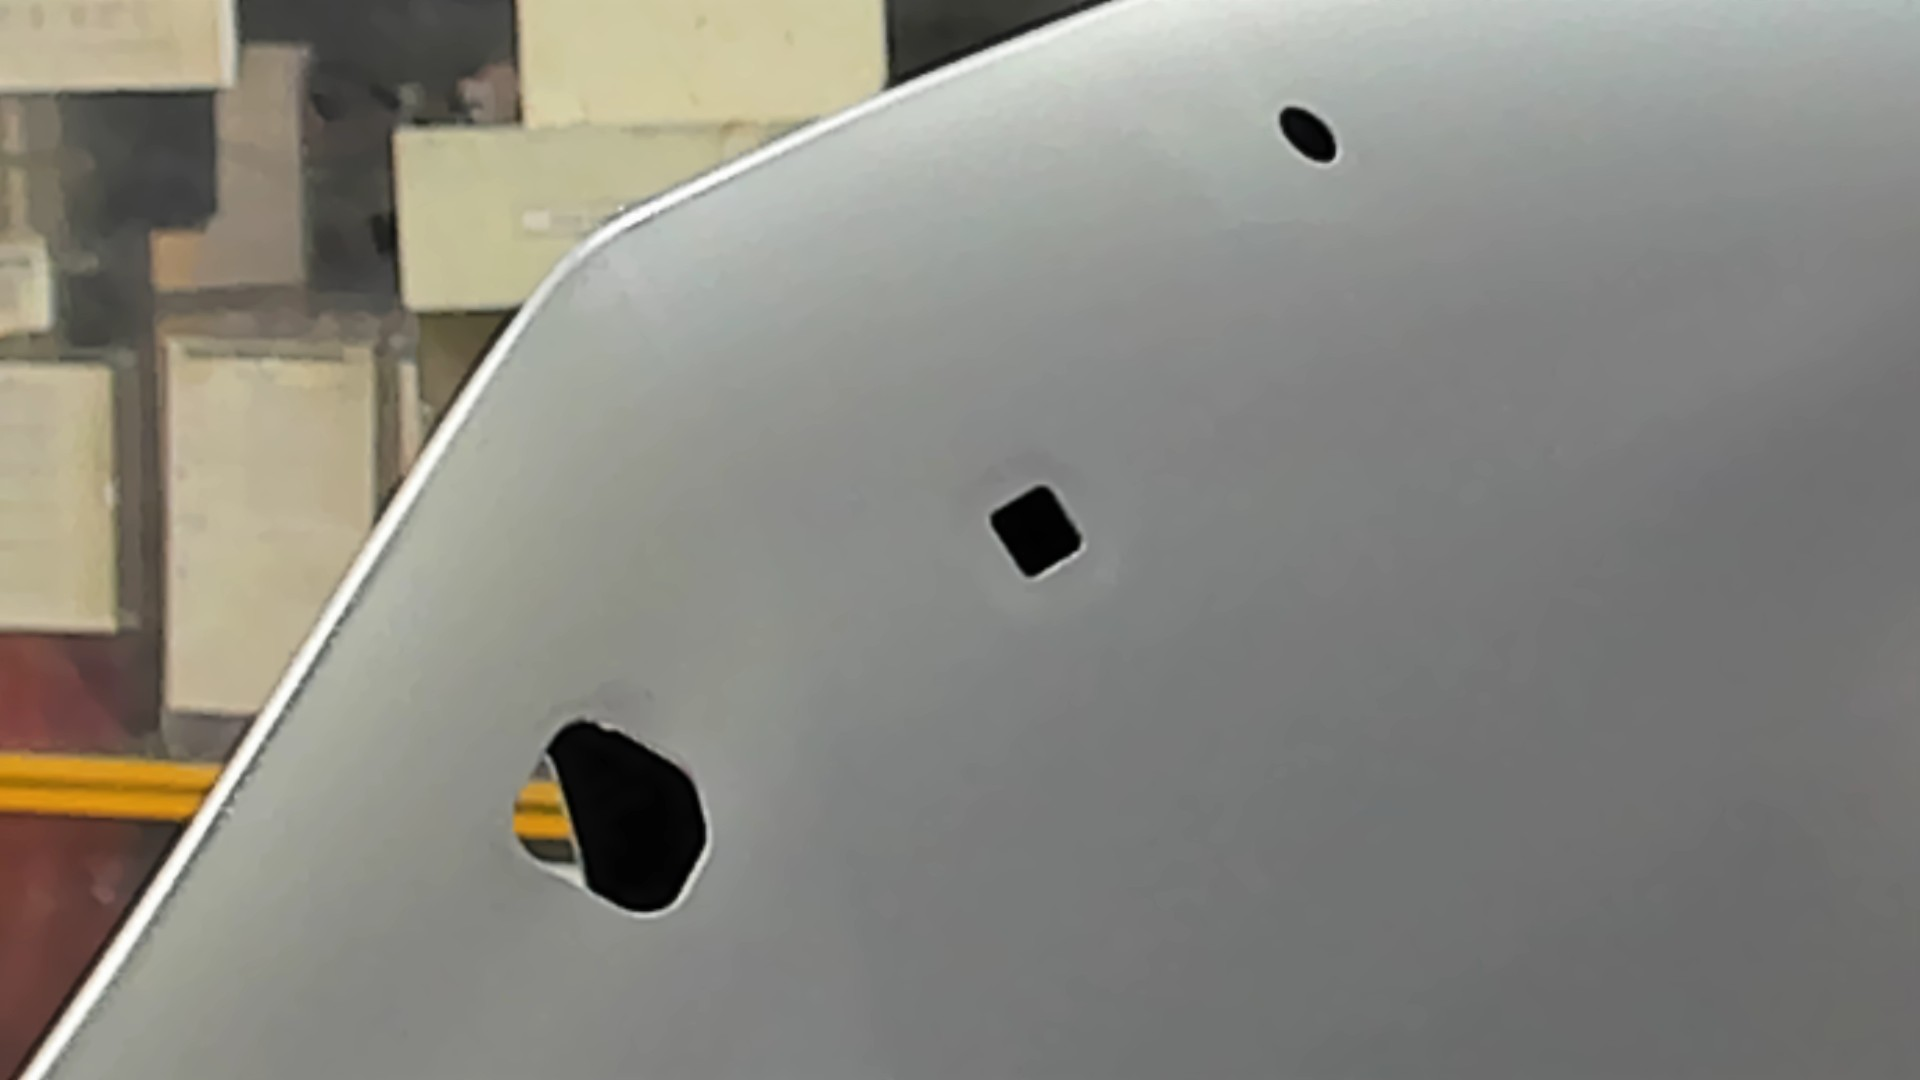chico: (1274, 103, 1341, 165)
grande: (506, 713, 715, 922)
mediano: (986, 483, 1087, 583)
